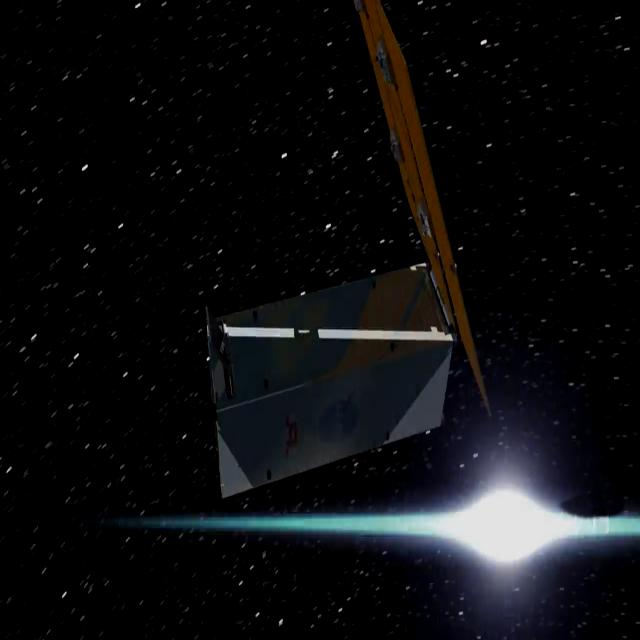medium_debris: (205, 0, 484, 546)
